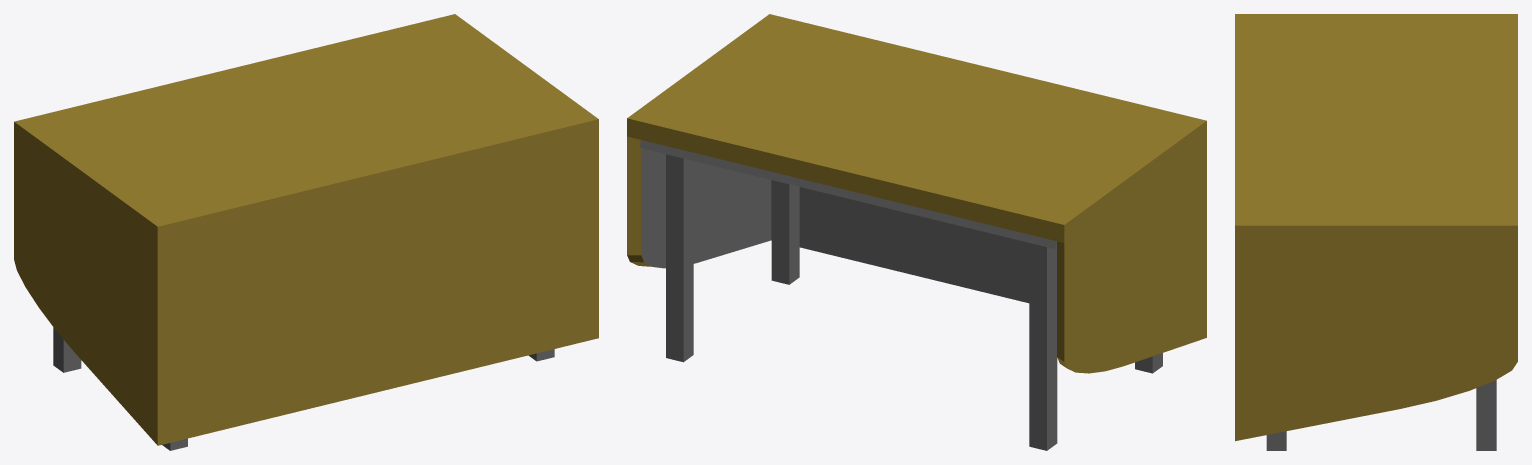
File: TeacherDesk.fbx
3 renders of one model, left to right at view 1: azimuth 30°, elevation 25°; view 2: azimuth 150°, elevation 25°; view 3: azimuth 270°, elevation 25°, orthographic.
Visible parts, largest first — view 1: TeacherDesk; view 2: TeacherDesk; view 3: TeacherDesk.
Boxes of the visible parts, x1,y1,x2,y2 form: TeacherDesk: [14, 14, 598, 450]; TeacherDesk: [627, 14, 1206, 450]; TeacherDesk: [1235, 14, 1517, 450].
Bounding box in the file's own units: 225 × 118 × 127.
